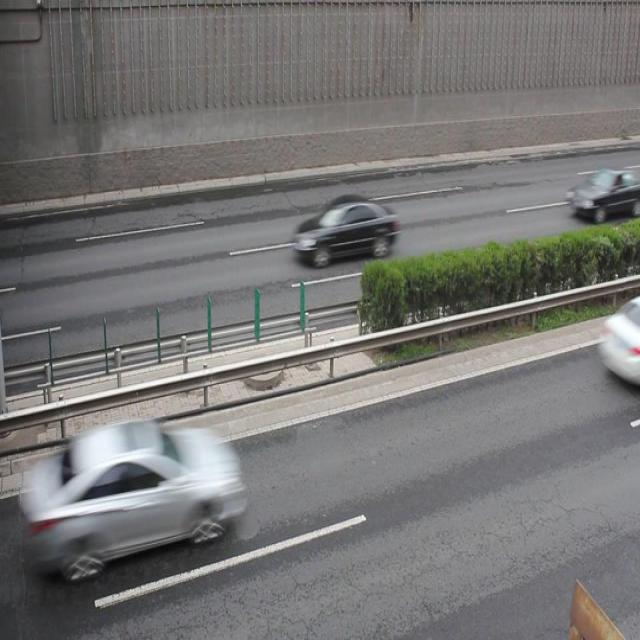car: (34, 422, 238, 578), (294, 198, 395, 263), (564, 167, 640, 221)
